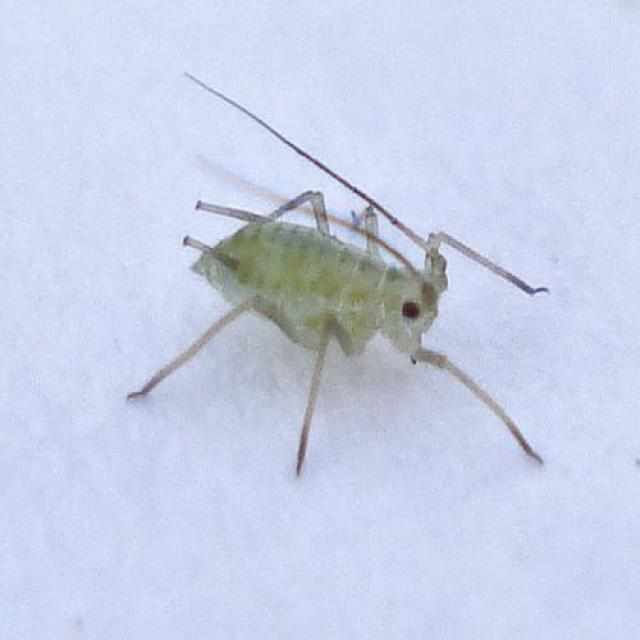Aphids: (168, 90, 554, 507)
